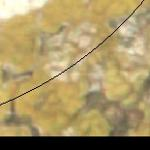alive: (13, 10, 146, 133)
